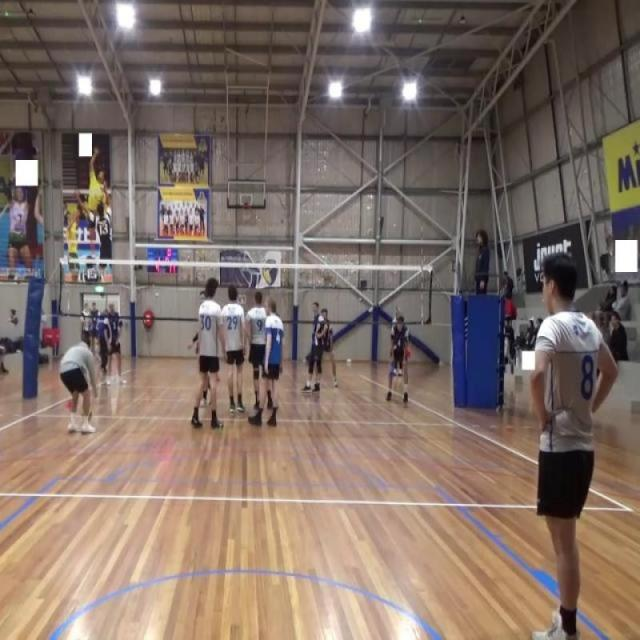volleyball: (80, 407, 94, 423)
